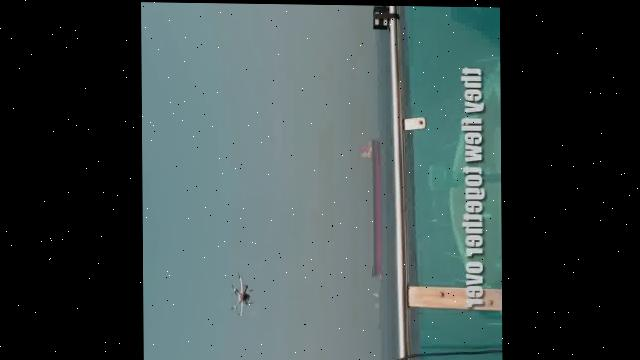drone: (226, 273, 254, 316)
